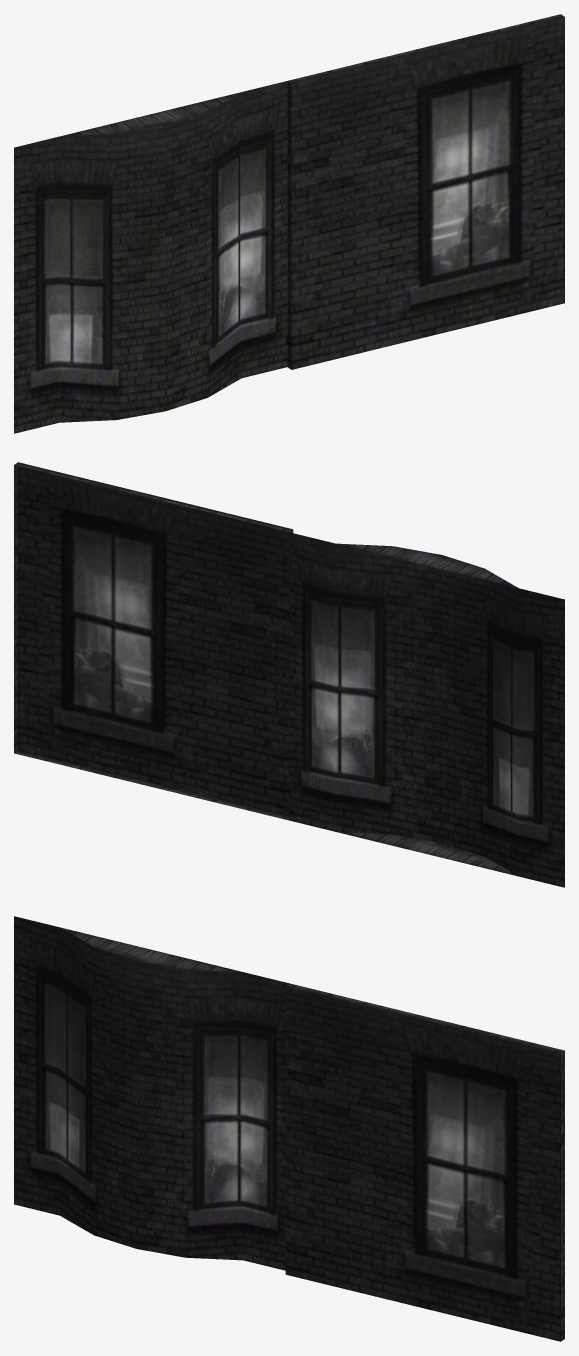
File: floor.obj
The picture shows the model from 3 angles, top to bottom: view 1: azimuth 30°, elevation 25°; view 2: azimuth 150°, elevation 25°; view 3: azimuth 330°, elevation 25°; orthographic projection.
Visible parts, largest first — view 1: group; view 2: group; view 3: group.
Boxes of the visible parts, x1=… form: group: x1=14, y1=14, x2=564, y2=433; group: x1=14, y1=462, x2=564, y2=887; group: x1=14, y1=916, x2=564, y2=1341.
Size of the model in its own units: 10 by 5 by 0.47.
